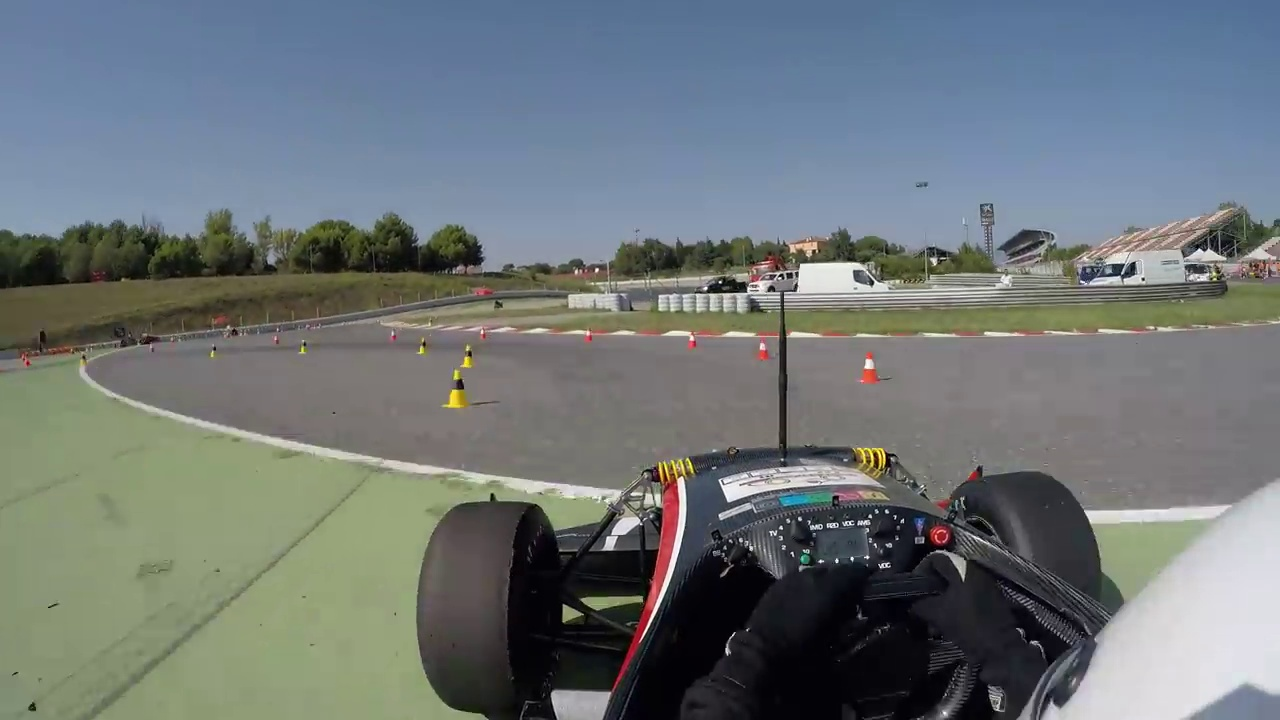Cone: (445, 370, 468, 412), (859, 350, 882, 386), (462, 344, 479, 368)
